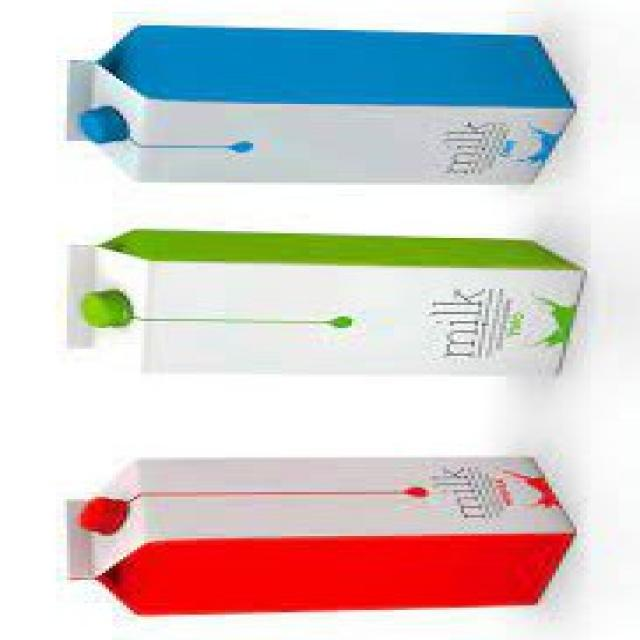non_white_jug: (59, 24, 578, 184), (65, 455, 576, 613), (64, 228, 584, 378)
